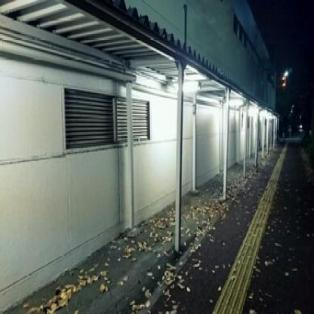Podoctatil: (202, 114, 307, 314)
